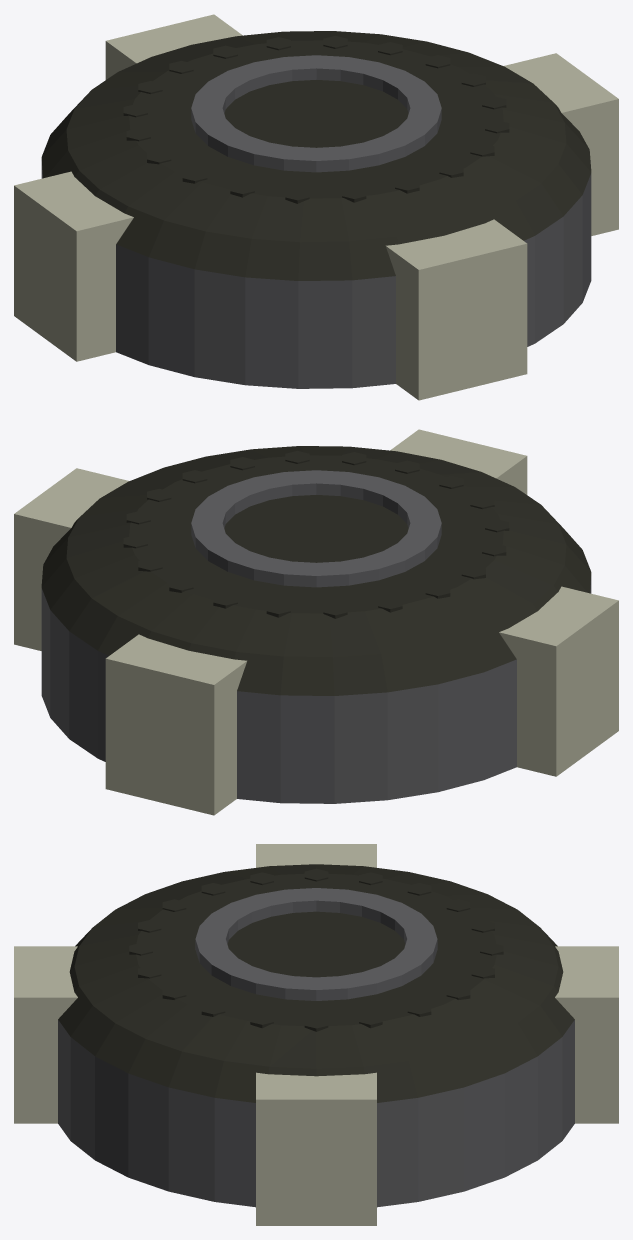
The model's file is vge_mech_sensor_node.obj.
3 views of the same model, one above another, from view 1: azimuth 30°, elevation 25°; view 2: azimuth 150°, elevation 25°; view 3: azimuth 270°, elevation 25° (orthographic). The views are drawn at different scales.
Visible parts, largest first — view 1: vge_mech_sensor_node_1, vge_mech_sensor_node_0, vge_mech_sensor_node_27, vge_mech_sensor_node_26, vge_mech_sensor_node_22, vge_mech_sensor_node_24, vge_mech_sensor_node_25; view 2: vge_mech_sensor_node_1, vge_mech_sensor_node_0, vge_mech_sensor_node_25, vge_mech_sensor_node_26, vge_mech_sensor_node_22, vge_mech_sensor_node_24, vge_mech_sensor_node_27; view 3: vge_mech_sensor_node_1, vge_mech_sensor_node_0, vge_mech_sensor_node_24, vge_mech_sensor_node_22, vge_mech_sensor_node_25, vge_mech_sensor_node_27, vge_mech_sensor_node_26.
Part boxes in pixels (x1,y1,x2,y2): vge_mech_sensor_node_1: (41, 31, 591, 280); vge_mech_sensor_node_0: (41, 161, 591, 388); vge_mech_sensor_node_27: (386, 219, 527, 400); vge_mech_sensor_node_26: (14, 171, 133, 361); vge_mech_sensor_node_22: (191, 55, 441, 172); vge_mech_sensor_node_24: (503, 53, 618, 235); vge_mech_sensor_node_25: (105, 14, 242, 79); vge_mech_sensor_node_1: (41, 446, 591, 695); vge_mech_sensor_node_0: (41, 576, 591, 803); vge_mech_sensor_node_25: (105, 634, 246, 815); vge_mech_sensor_node_26: (499, 586, 618, 776); vge_mech_sensor_node_22: (191, 470, 441, 587); vge_mech_sensor_node_24: (14, 468, 129, 650); vge_mech_sensor_node_27: (390, 429, 527, 494); vge_mech_sensor_node_1: (58, 864, 574, 1102); vge_mech_sensor_node_0: (58, 1020, 574, 1207); vge_mech_sensor_node_24: (256, 1072, 376, 1225); vge_mech_sensor_node_22: (195, 888, 437, 1000); vge_mech_sensor_node_25: (555, 946, 618, 1123); vge_mech_sensor_node_27: (14, 946, 77, 1123); vge_mech_sensor_node_26: (256, 844, 376, 867).
Size of the model in its own units: 2 by 0.58 by 2.
